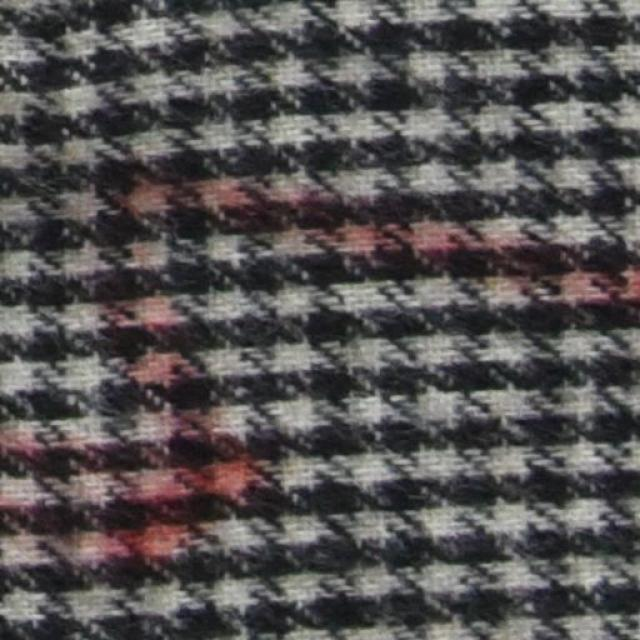Stain: (0, 153, 639, 583)
